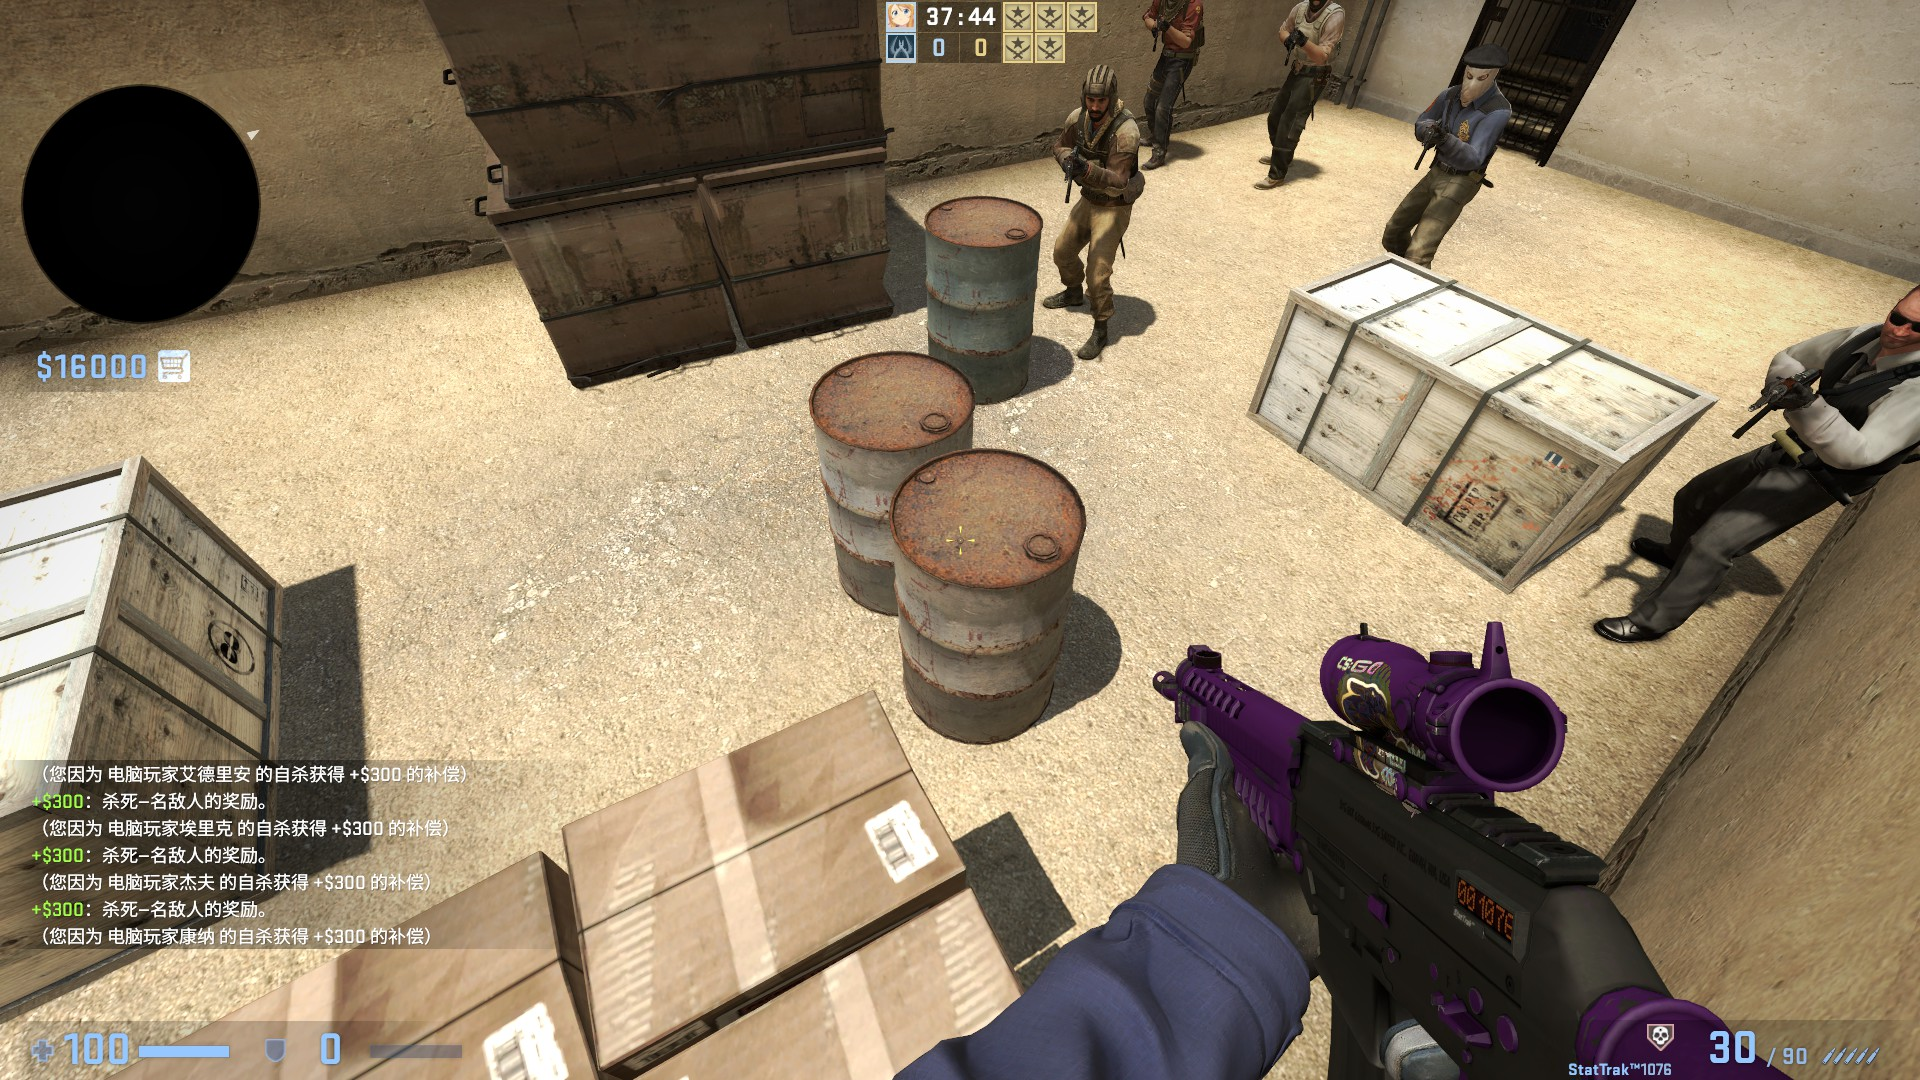head: (1882, 281, 1919, 351), (1457, 42, 1498, 103), (1077, 60, 1119, 115), (1305, 0, 1322, 10)
